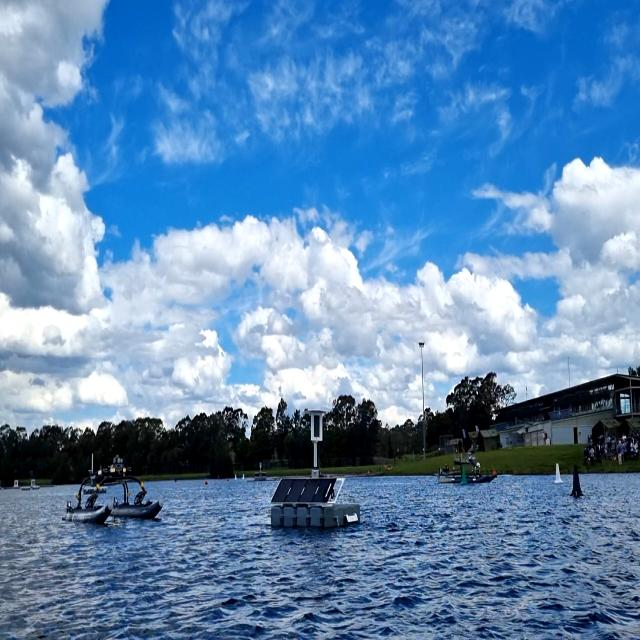led: (312, 413, 322, 440)
